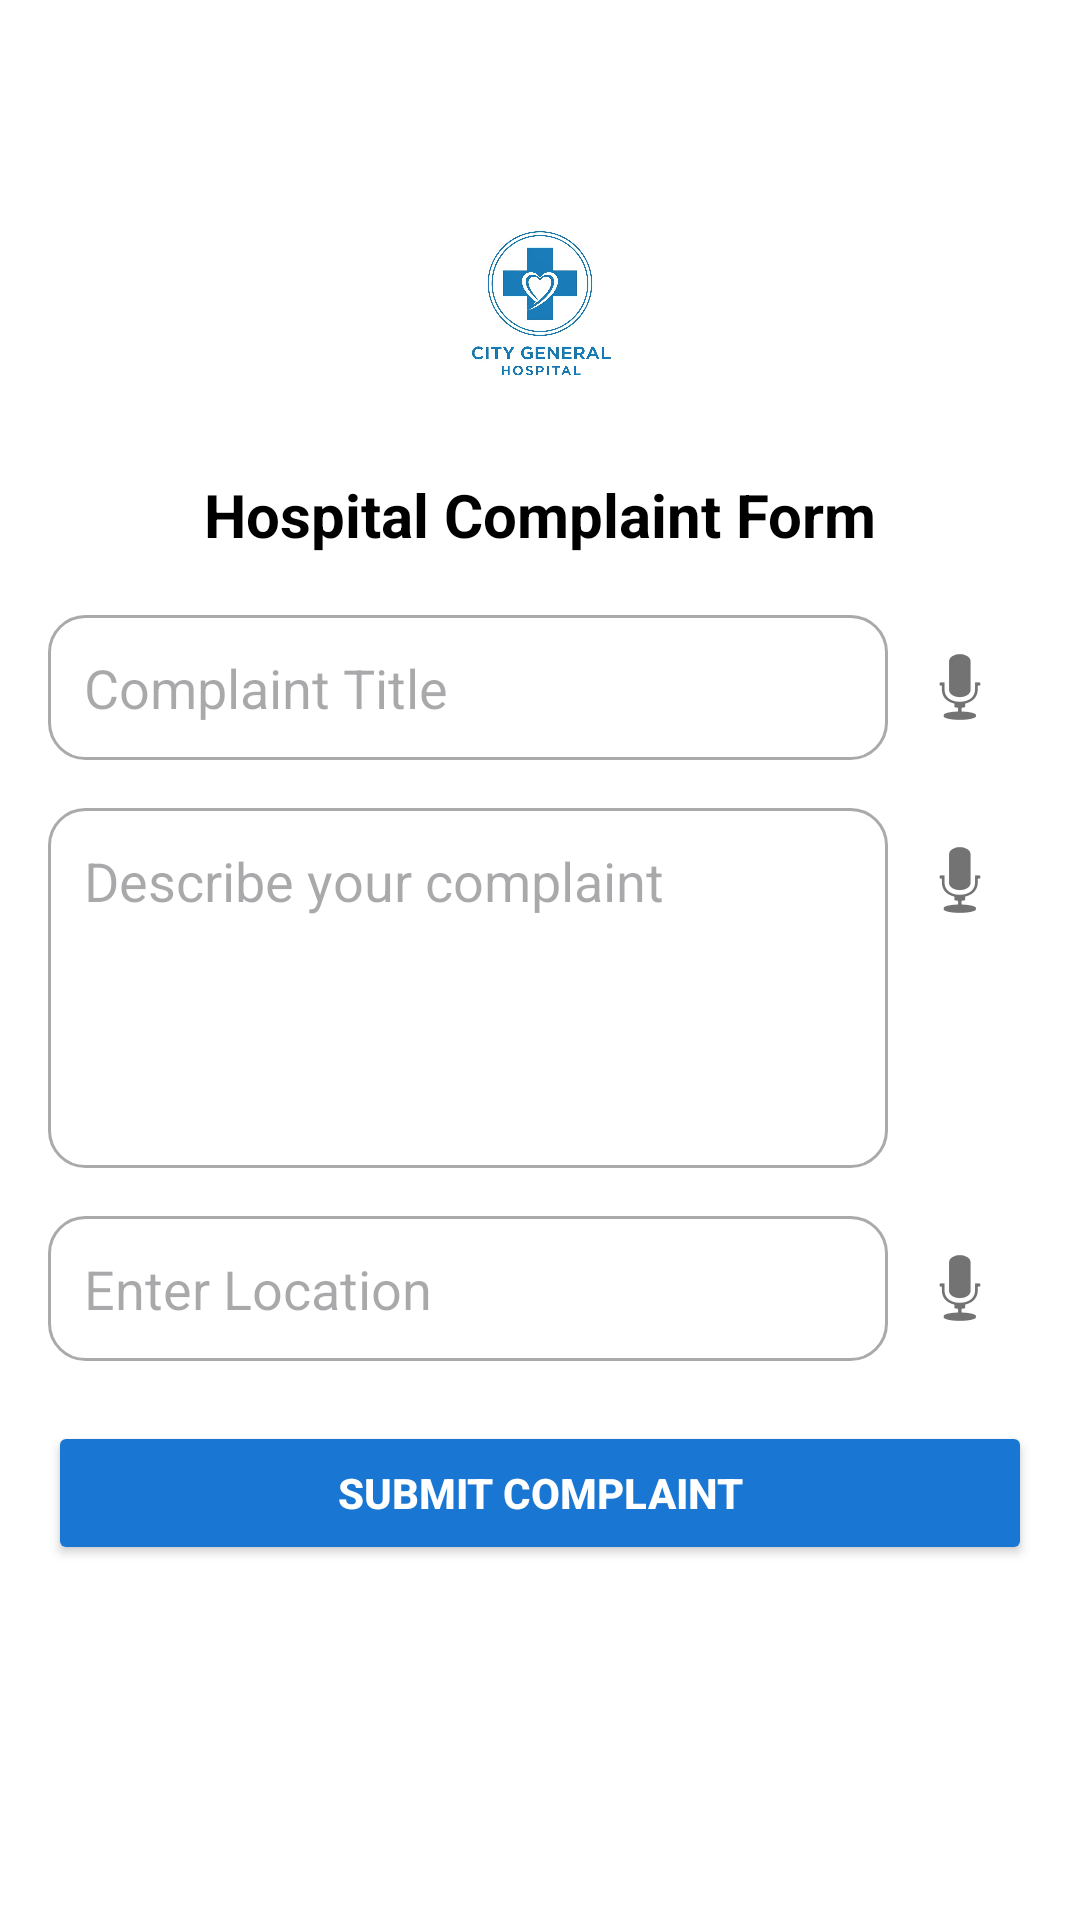

Named icons in this screenshot (1080px x 1920px) and their bounding boxes, rect(x1, y1, x2, y2):
Voice input for description: rect(939, 847, 981, 913)
Voice input for location: rect(939, 1255, 981, 1321)
Voice input for title: rect(939, 654, 981, 720)
